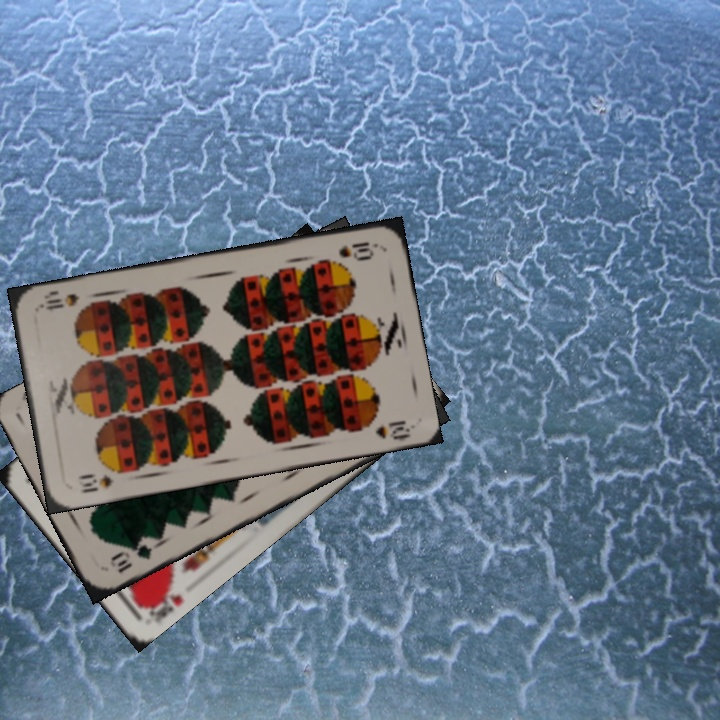G10: (105, 540, 155, 576)
HK: (137, 578, 186, 626)
S10: (74, 469, 117, 496), (335, 237, 380, 260)
